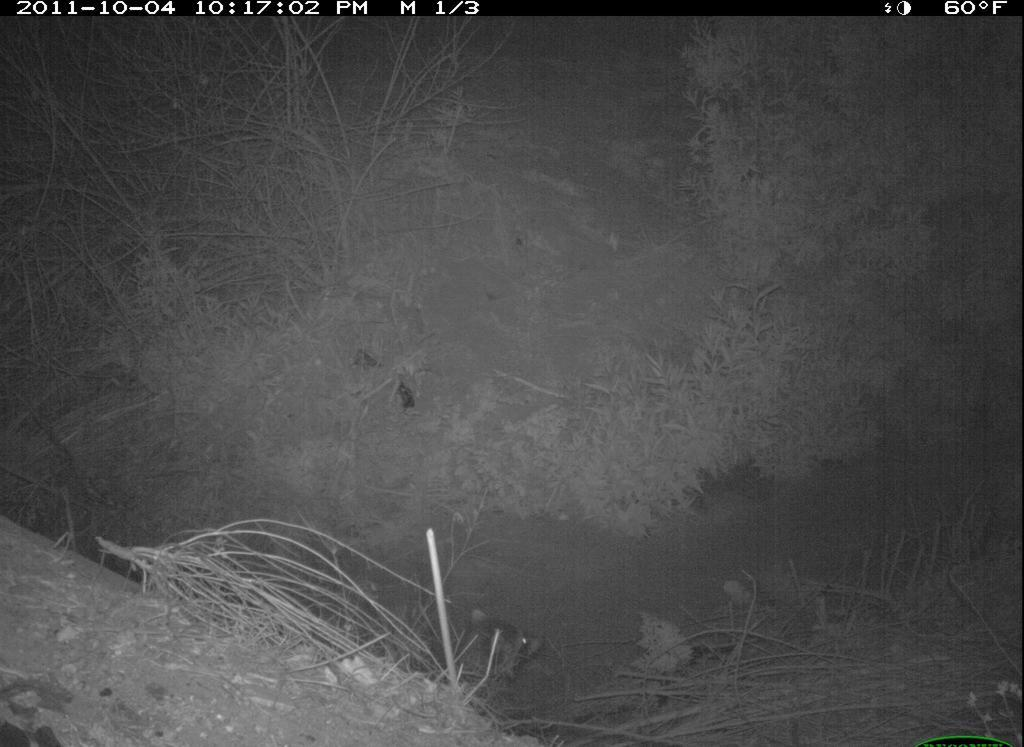raccoon: (461, 584, 559, 710)
